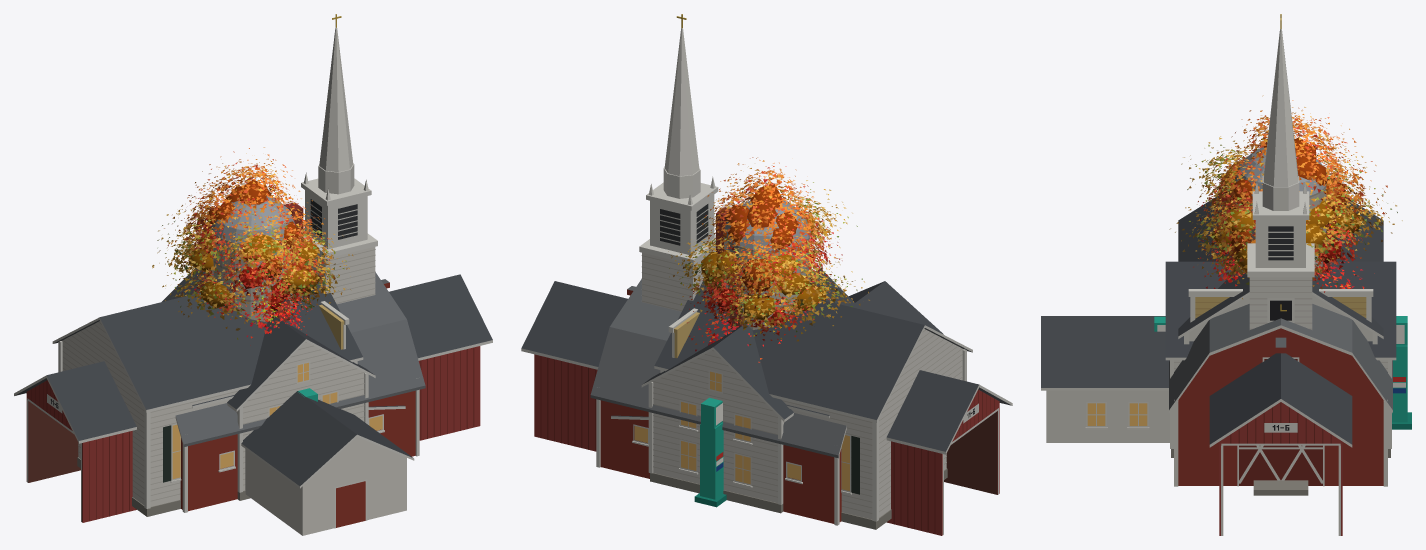
The model's file is env_vermont.glb.
3 views of the same model, side by side, from view 1: azimuth 30°, elevation 25°; view 2: azimuth 150°, elevation 25°; view 3: azimuth 270°, elevation 25° (orthographic). The views are drawn at different scales.
Parts seen in each view (by area): view 1: SM_Church_VT, SM_FarmHouse_VT, SM_CoveredBridge_VT, SM_Barn_US, SM_Oak_A, SM_SugarMaple_A, SM_Silo_US, SM_SugarMaple_B, SM_GeneralStore_VT, SM_Maple_A; view 2: SM_Church_VT, SM_CoveredBridge_VT, SM_FarmHouse_VT, SM_Barn_US, SM_SugarMaple_A, SM_Oak_A, SM_SugarMaple_B, SM_Silo_US, SM_FinishArch, SM_GeneralStore_VT; view 3: SM_Barn_US, SM_FarmHouse_VT, SM_Church_VT, SM_CoveredBridge_VT, SM_Oak_A, SM_SugarMaple_A, SM_GeneralStore_VT, SM_SugarMaple_B, SM_FinishArch, SM_Silo_US, SM_Maple_A.
Part boxes in pixels (x1=…): SM_Church_VT: x1=52, y1=14, x2=377, y2=516; SM_FarmHouse_VT: x1=162, y1=268, x2=414, y2=535; SM_CoveredBridge_VT: x1=14, y1=274, x2=492, y2=522; SM_Barn_US: x1=175, y1=272, x2=425, y2=512; SM_Oak_A: x1=152, y1=193, x2=353, y2=339; SM_SugarMaple_A: x1=164, y1=147, x2=333, y2=309; SM_Silo_US: x1=211, y1=196, x2=303, y2=322; SM_SugarMaple_B: x1=179, y1=182, x2=329, y2=327; SM_GeneralStore_VT: x1=192, y1=301, x2=349, y2=408; SM_Maple_A: x1=194, y1=280, x2=312, y2=345; SM_Church_VT: x1=639, y1=14, x2=972, y2=529; SM_CoveredBridge_VT: x1=521, y1=281, x2=1012, y2=535; SM_FarmHouse_VT: x1=611, y1=269, x2=943, y2=513; SM_Barn_US: x1=590, y1=279, x2=846, y2=525; SM_SugarMaple_A: x1=702, y1=157, x2=833, y2=319; SM_Oak_A: x1=668, y1=180, x2=869, y2=345; SM_SugarMaple_B: x1=689, y1=185, x2=842, y2=340; SM_Silo_US: x1=716, y1=200, x2=810, y2=329; SM_FinishArch: x1=694, y1=397, x2=726, y2=507; SM_GeneralStore_VT: x1=668, y1=308, x2=829, y2=418; SM_Barn_US: x1=1169, y1=304, x2=1392, y2=486; SM_FarmHouse_VT: x1=1041, y1=251, x2=1396, y2=457; SM_Church_VT: x1=1178, y1=14, x2=1383, y2=495; SM_CoveredBridge_VT: x1=1209, y1=353, x2=1352, y2=535; SM_Oak_A: x1=1169, y1=130, x2=1402, y2=298; SM_SugarMaple_A: x1=1196, y1=95, x2=1387, y2=281; SM_GeneralStore_VT: x1=1188, y1=289, x2=1373, y2=322; SM_SugarMaple_B: x1=1198, y1=133, x2=1368, y2=292; SM_FinishArch: x1=1154, y1=316, x2=1411, y2=429; SM_Silo_US: x1=1235, y1=147, x2=1327, y2=272; SM_Maple_A: x1=1193, y1=235, x2=1374, y2=288.
Size of the model in its own units: 25 by 25.2 by 17.7.
